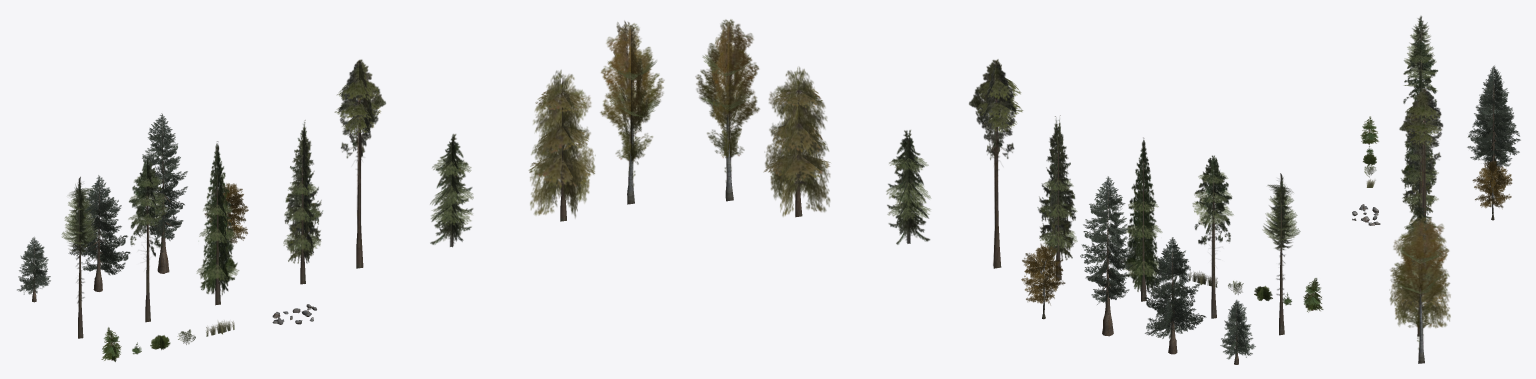
The model's file is trees.glb.
3 views of the same model, side by side, from view 1: azimuth 30°, elevation 25°; view 2: azimuth 150°, elevation 25°; view 3: azimuth 270°, elevation 25° (orthographic). The views are drawn at different scales.
Visible parts, largest first — view 1: Background_Tree_Atlas_Background_Tree_Atlas_0, Tree_Branches_01_Tree_Branches_01_0, Tree_Branches_01.001_Tree_Branches_01_0, Tree_Branches_02_Tree_Branches_02_0, Tree_Trunk_01_Tree_Trunk_01_0; view 2: Background_Tree_Atlas_Background_Tree_Atlas_0, Tree_Branches_01_Tree_Branches_01_0, Tree_Branches_02_Tree_Branches_02_0, Tree_Branches_01.001_Tree_Branches_01_0, Tree_Trunk_01_Tree_Trunk_01_0; view 3: Background_Tree_Atlas_Background_Tree_Atlas_0, Tree_Branches_01_Tree_Branches_01_0, Tree_Branches_02_Tree_Branches_02_0, Rocks_Rocks_0, Tree_Trunk_01_Tree_Trunk_01_0.
Part boxes in pixels (left/top/right/bottom): Background_Tree_Atlas_Background_Tree_Atlas_0: left=61, top=21, right=664, bottom=361; Tree_Branches_01_Tree_Branches_01_0: left=68, top=113, right=187, bottom=275; Tree_Branches_01.001_Tree_Branches_01_0: left=17, top=237, right=50, bottom=294; Tree_Branches_02_Tree_Branches_02_0: left=204, top=183, right=248, bottom=243; Tree_Trunk_01_Tree_Trunk_01_0: left=31, top=147, right=173, bottom=302; Background_Tree_Atlas_Background_Tree_Atlas_0: left=695, top=19, right=1323, bottom=335; Tree_Branches_01_Tree_Branches_01_0: left=1080, top=176, right=1206, bottom=339; Tree_Branches_02_Tree_Branches_02_0: left=1021, top=243, right=1065, bottom=304; Tree_Branches_01.001_Tree_Branches_01_0: left=1220, top=300, right=1255, bottom=359; Tree_Trunk_01_Tree_Trunk_01_0: left=1100, top=192, right=1238, bottom=364; Background_Tree_Atlas_Background_Tree_Atlas_0: left=1360, top=16, right=1450, bottom=363; Tree_Branches_01_Tree_Branches_01_0: left=1467, top=65, right=1520, bottom=167; Tree_Branches_02_Tree_Branches_02_0: left=1472, top=160, right=1512, bottom=208; Rocks_Rocks_0: left=1352, top=204, right=1380, bottom=225; Tree_Trunk_01_Tree_Trunk_01_0: left=1487, top=85, right=1500, bottom=195.
Size of the model in its own units: 101 by 33.76 by 30.38.
6 materials, 6 textured.
